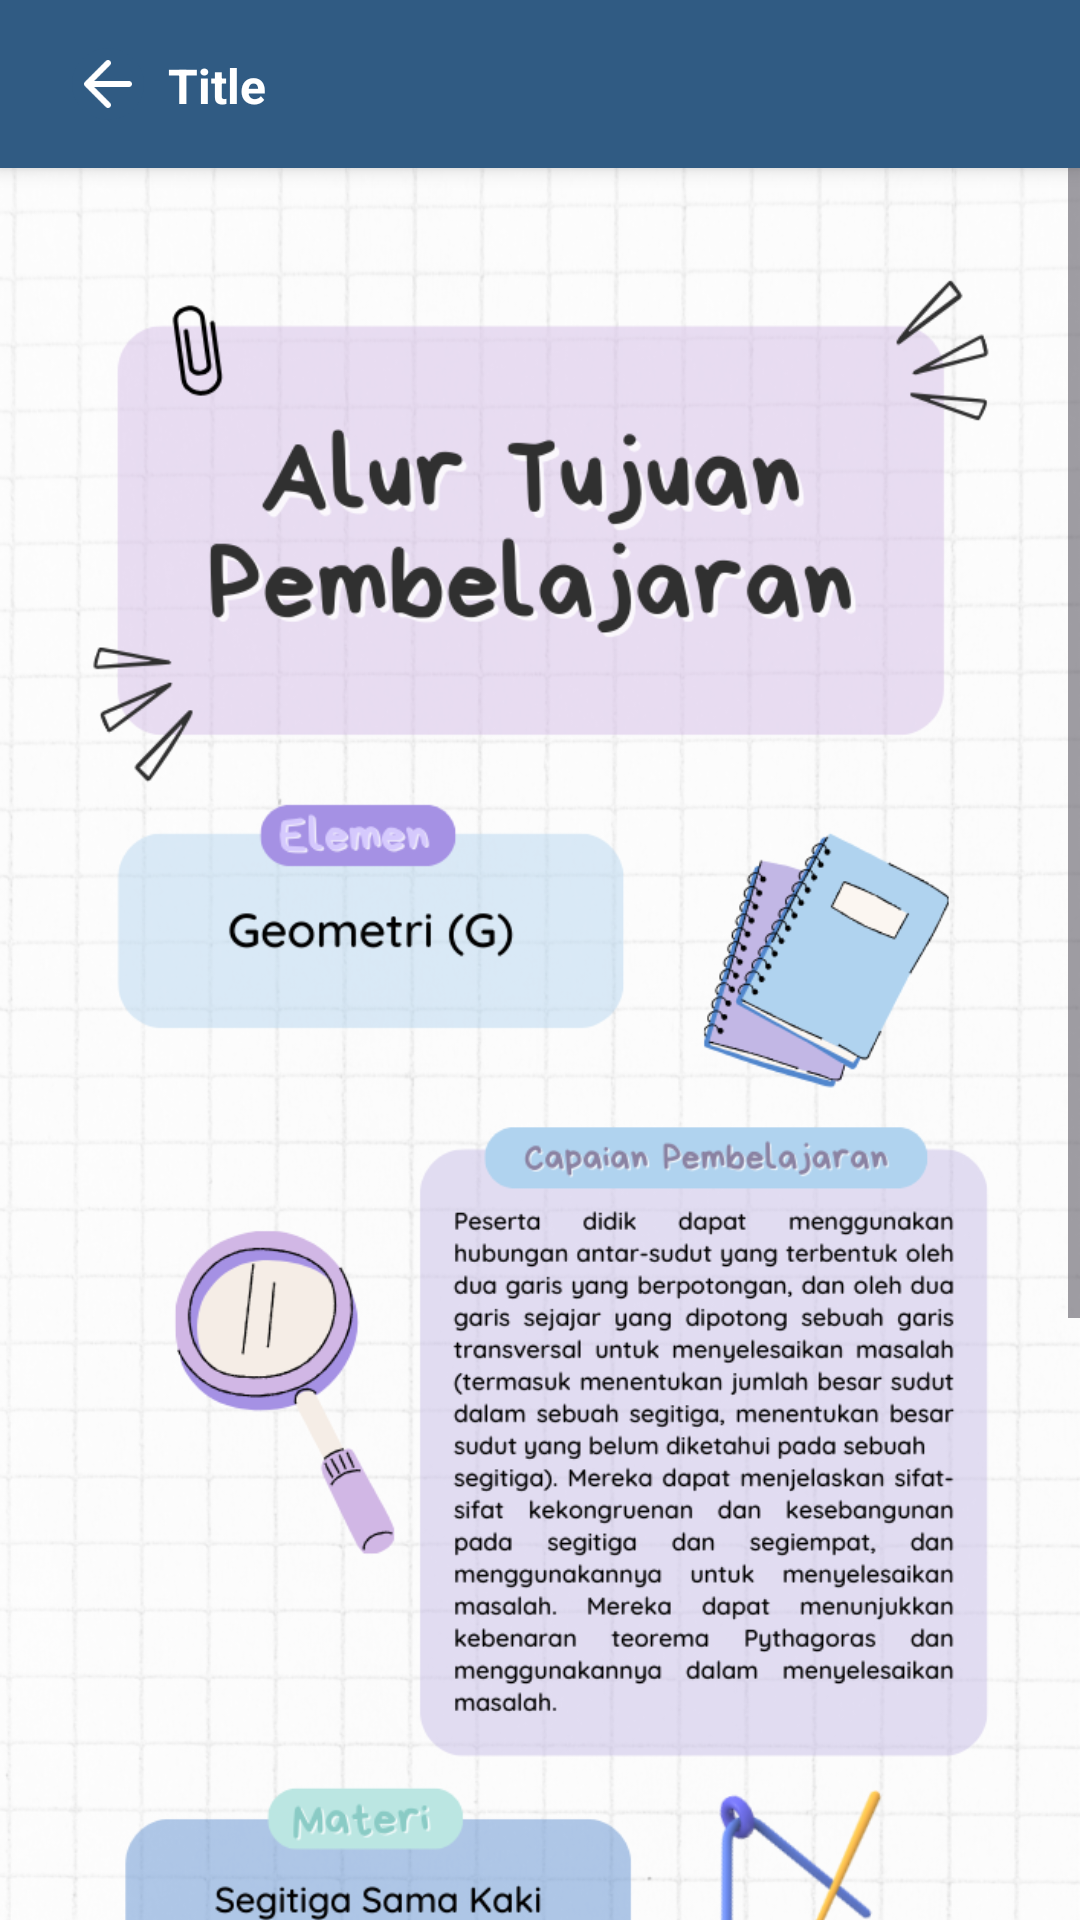

Screen size 1080×1920. Icon name, then its box in pixels as (x1, y1, x2, y2):
arrow left: (84, 60, 132, 108)
